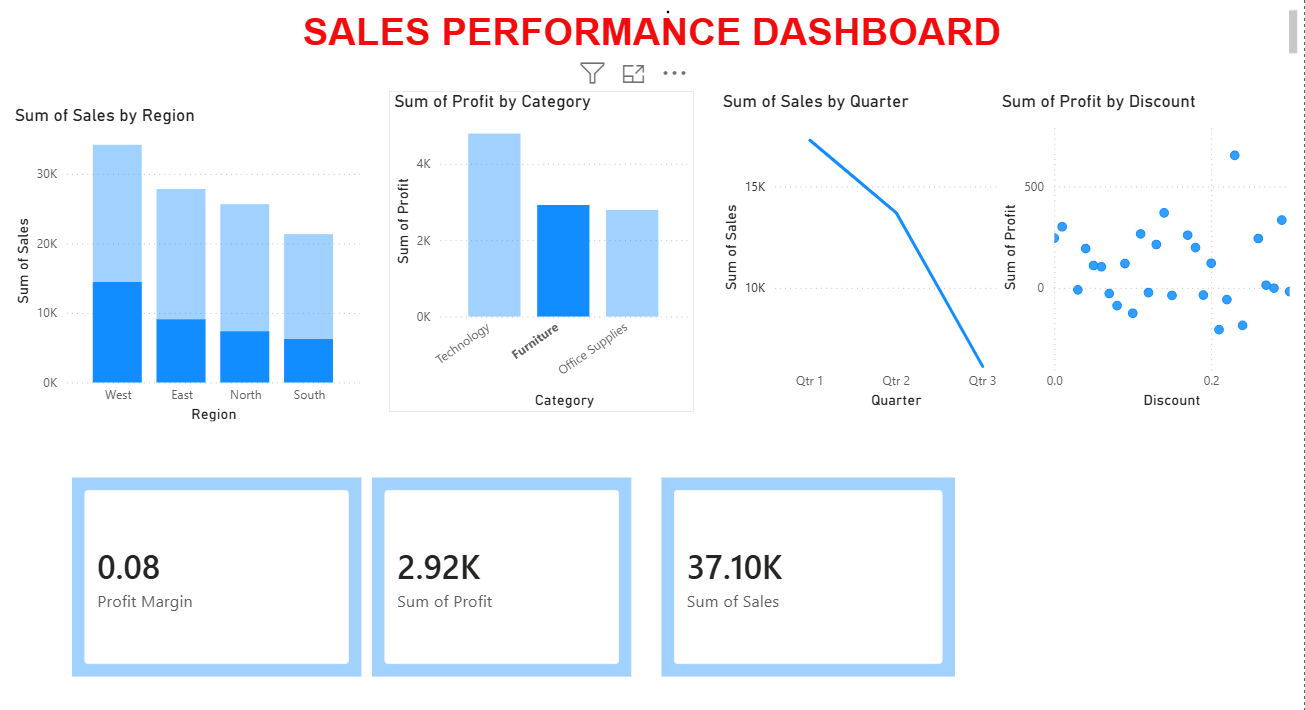

What the dashboard file says about the page in this screenshot:
{"tool":"powerbi","page":{"name":"Page 1","canvas":[1280,720],"ordinal":0},"visuals":[{"type":"cardVisual","fields":{"Data":["sales_dataset_v2.Profit Margin"]},"box":[74.2,480,292.2,204.4],"z":0},{"type":"columnChart","fields":{"Category":["sales_dataset_v2.Region"],"Y":["Sum(sales_dataset_v2.Sales)"]},"box":[19.7,121.1,346.8,313.4],"z":3000},{"type":"columnChart","fields":{"Category":["sales_dataset_v2.Category"],"Y":["Sum(sales_dataset_v2.Profit)"]},"box":[389.2,107.5,296.8,313.4],"z":5000},{"type":"lineChart","fields":{"Category":["sales_dataset_v2.Order_Date.Variation.Date Hierarchy.Quarter","sales_dataset_v2.Order_Date.Variation.Date Hierarchy.Month","sales_dataset_v2.Order_Date.Variation.Date Hierarchy.Day"],"Y":["Sum(sales_dataset_v2.Sales)"]},"box":[708.6,107.5,296.8,313.4],"z":5001},{"type":"scatterChart","fields":{"Y":["Sum(sales_dataset_v2.Profit)"],"X":["sales_dataset_v2.Discount"]},"box":[981.2,107.5,298.3,313.4],"z":5002},{"type":"cardVisual","fields":{"Data":["Sum(sales_dataset_v2.Profit)"]},"box":[366.4,480,263.5,204.4],"z":5003},{"type":"cardVisual","fields":{"Data":["Sum(sales_dataset_v2.Sales)"]},"box":[649.6,480,296.8,204.4],"z":5004},{"type":"textbox","box":[19.7,22.7,1259.8,53],"z":5005}]}

Visuals, with their boxes on the page's 1280x720 design canvas (x1, y1, x2, y2). These are canvas units, not pixel positions in the 1305x710 screenshot, which may show the page scaled, cropped or inside an application window:
cardVisual - sales_dataset_v2.Profit Margin: <box>74,480,366,684</box>
columnChart - sales_dataset_v2.Region x Sum(sales_dataset_v2.Sales): <box>20,121,366,434</box>
columnChart - sales_dataset_v2.Category x Sum(sales_dataset_v2.Profit): <box>389,108,686,421</box>
lineChart - sales_dataset_v2.Order_Date.Variation.Date Hierarchy.Quarter x sales_dataset_v2.Order_Date.Variation.Date Hierarchy.Month: <box>709,108,1005,421</box>
scatterChart - Sum(sales_dataset_v2.Profit) x sales_dataset_v2.Discount: <box>981,108,1280,421</box>
cardVisual - Sum(sales_dataset_v2.Profit): <box>366,480,630,684</box>
cardVisual - Sum(sales_dataset_v2.Sales): <box>650,480,946,684</box>
textbox: <box>20,23,1280,76</box>
